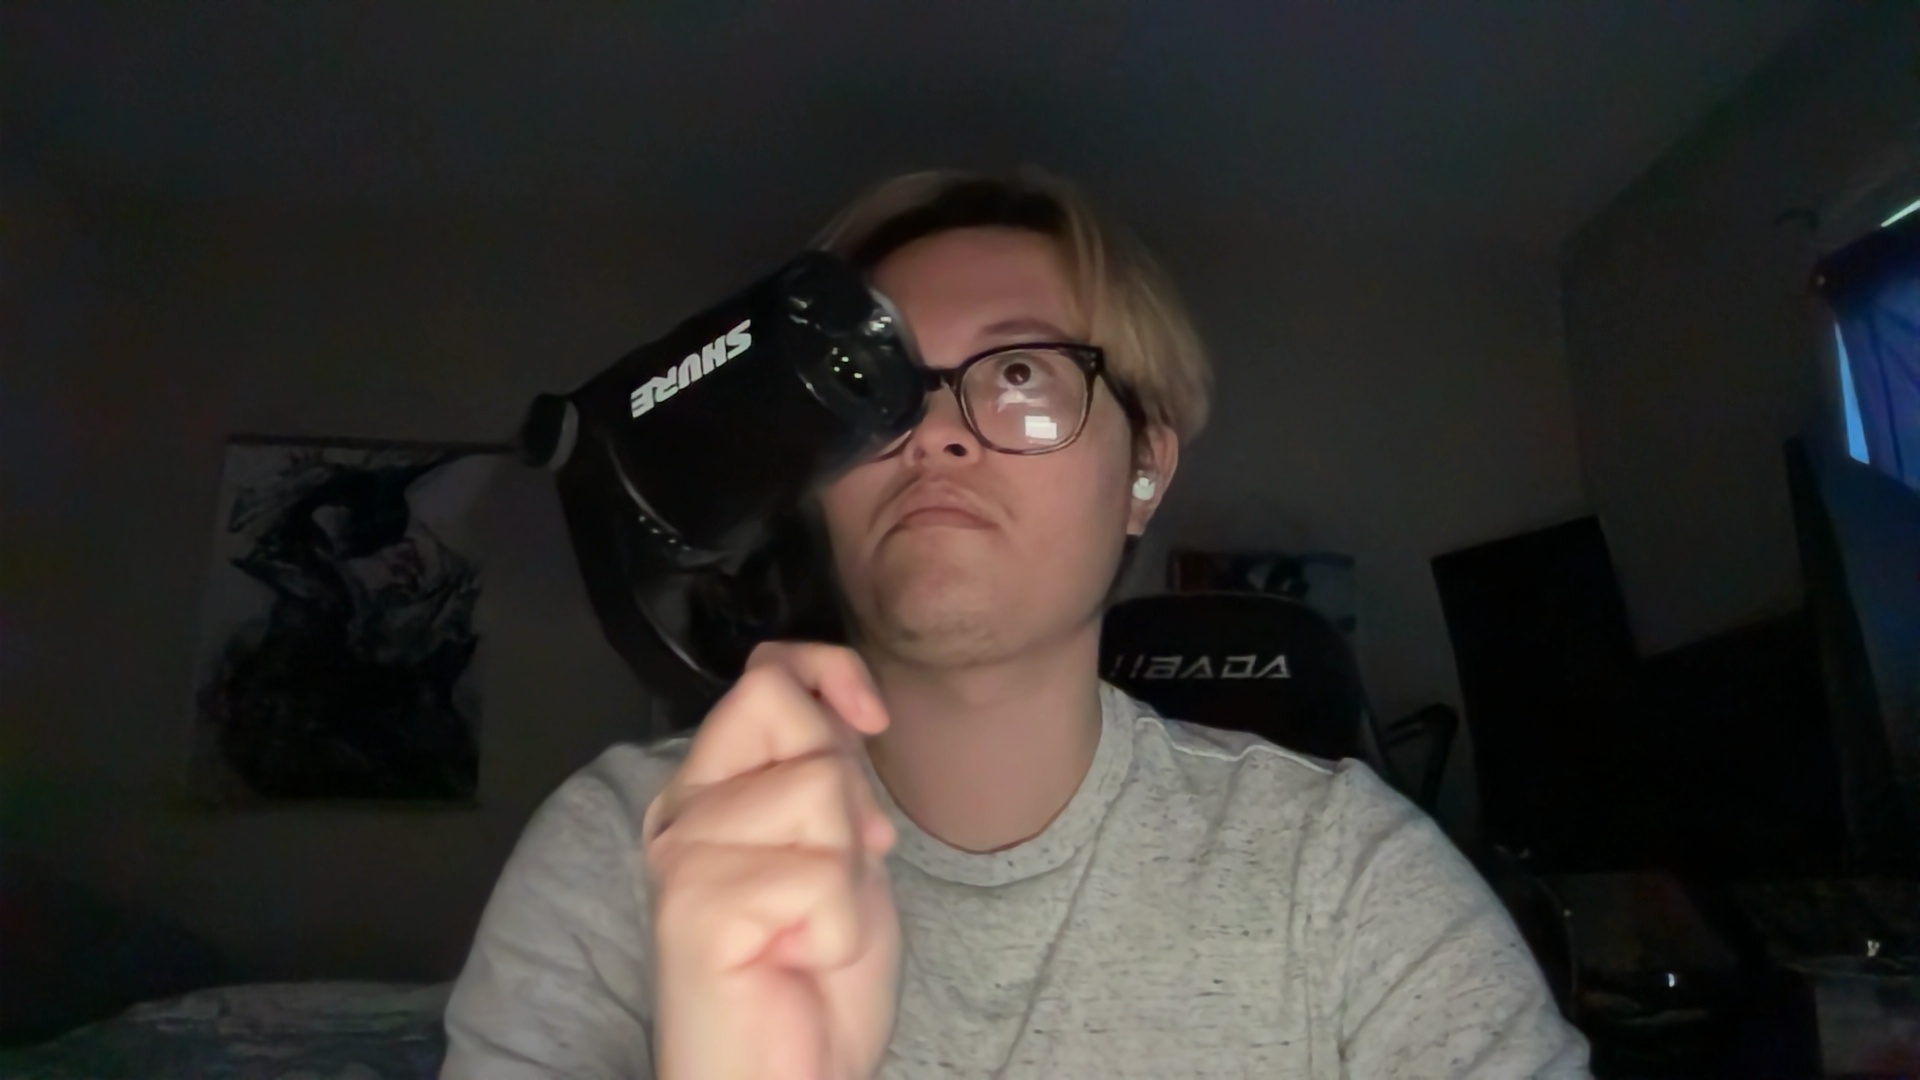microphone: (443, 243, 915, 700)
